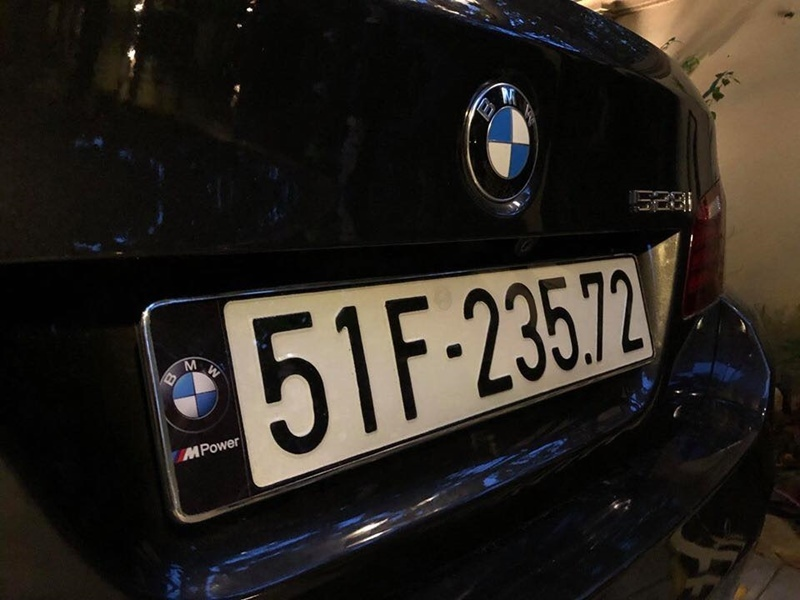number_plate: (219, 259, 679, 482)
